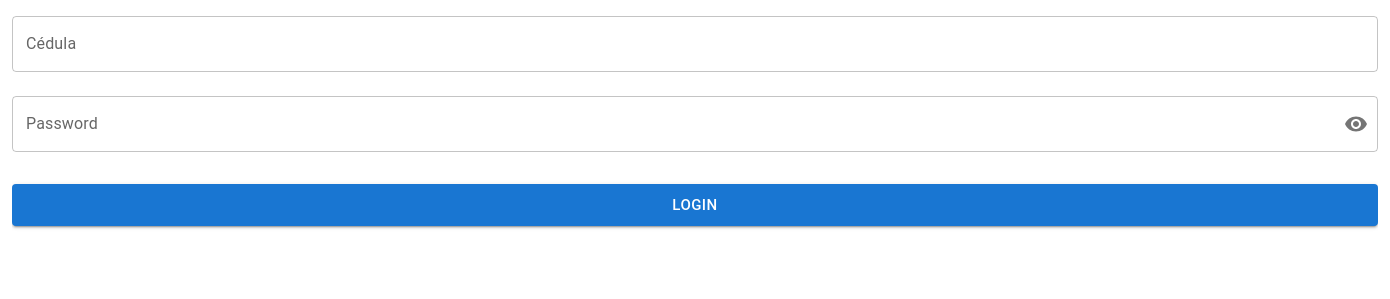
Test: LoginForm › validates password length
Type "123" into the password field with test id "login-form-password-field" at (670, 124), box [12,96,1328,152]
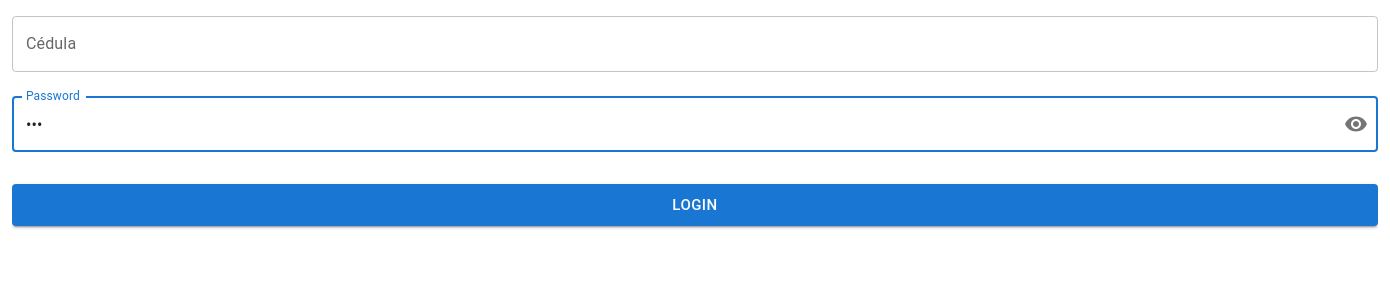
Click the button with test id "login-form-submit-button" at (695, 205), box [12,184,1378,226]
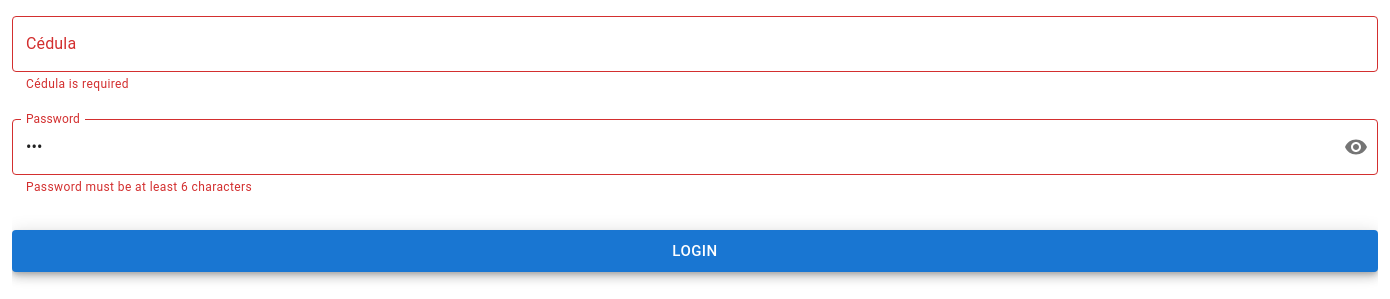
Result: the text "Password must be at least 6 characters" is shown at [26,180,252,194]
